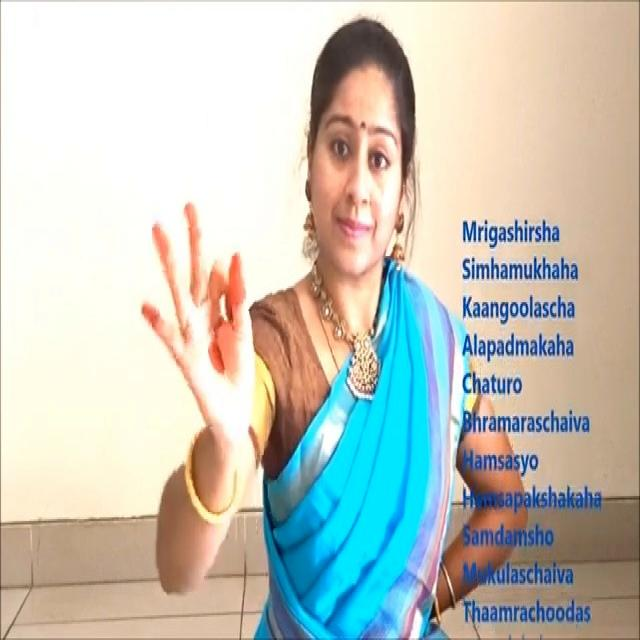Bhramara: (133, 170, 263, 460)
lady: (281, 18, 427, 280)
text: (453, 214, 608, 639)
